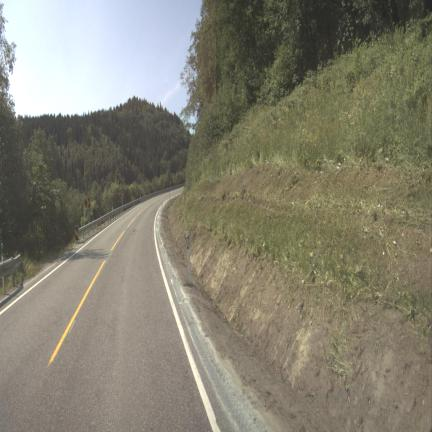Road: (0, 195, 211, 430)
